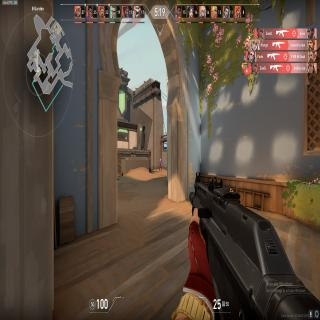ENEMY-BODY: (159, 157, 162, 172)
ENEMY-HEAD: (160, 158, 161, 160)
